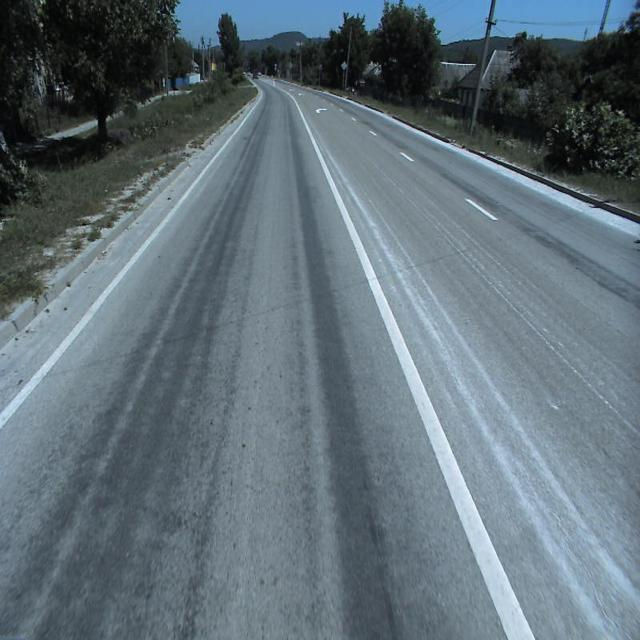road: (0, 75, 640, 639)
